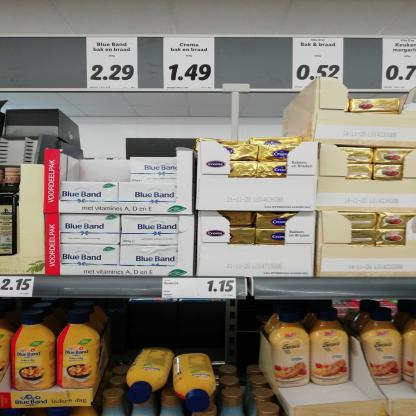prtg: (87, 39, 139, 90), (293, 39, 345, 90), (165, 39, 216, 90), (382, 39, 416, 90), (163, 279, 238, 299), (1, 277, 36, 298)
